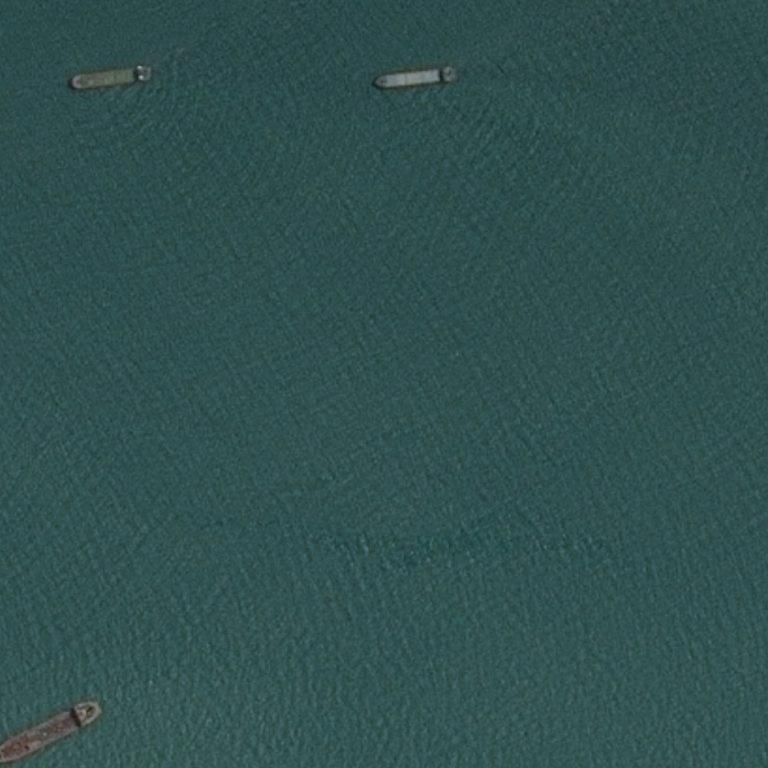ship: (2, 660, 102, 730), (67, 65, 149, 90), (0, 66, 74, 91)
